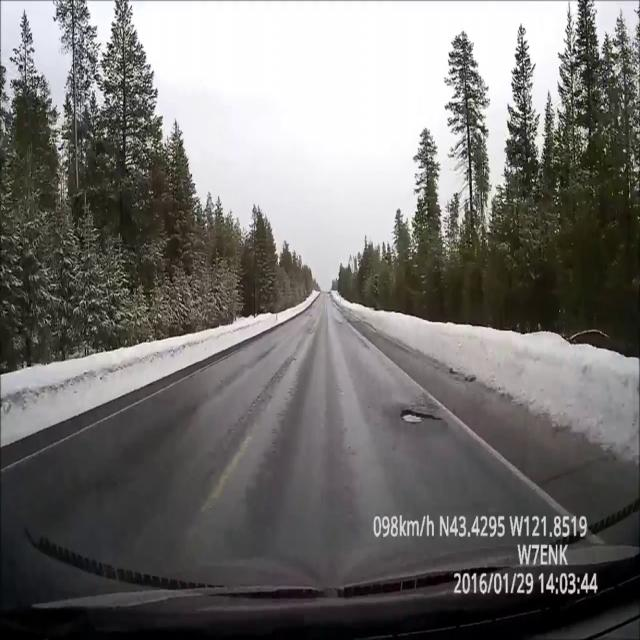Pothole: (401, 407, 443, 423)
